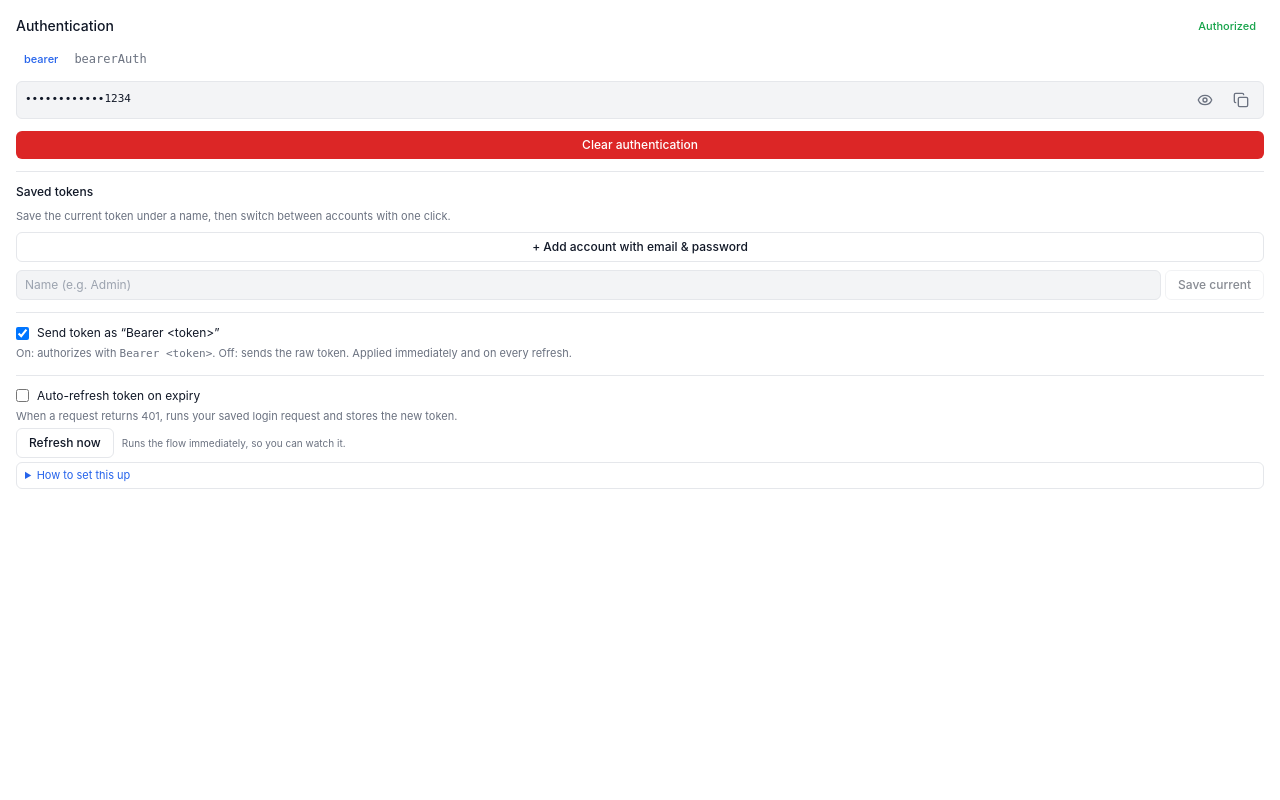
Test: AuthPanel › reveals a typed password on demand
The width and height of the screenshot is (1280, 800).
Click the button "+ Add account with email & password". click: (640, 247)
box: x1=16 y1=232 x2=1264 y2=262
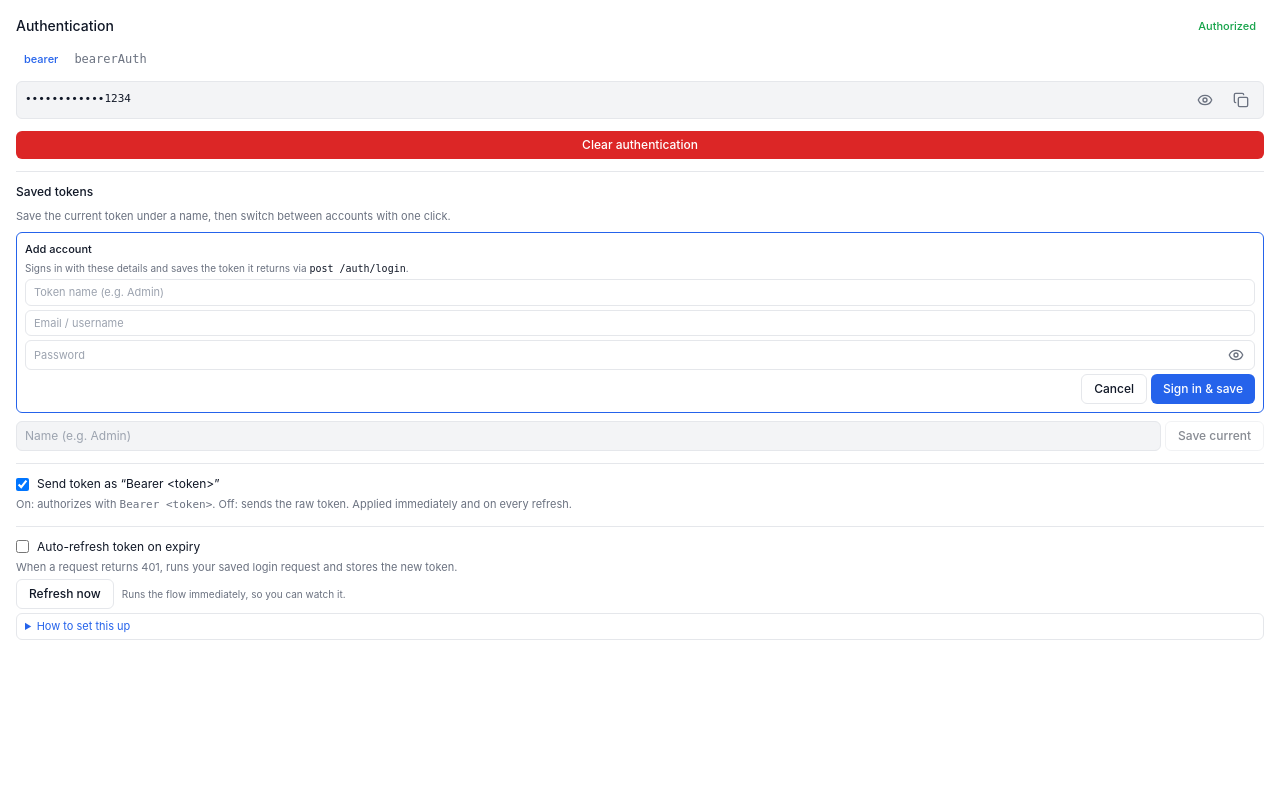
Type "Dwerp@2026" into the password field named "New account password". click: (622, 355)
box: x1=26 y1=343 x2=1218 y2=368
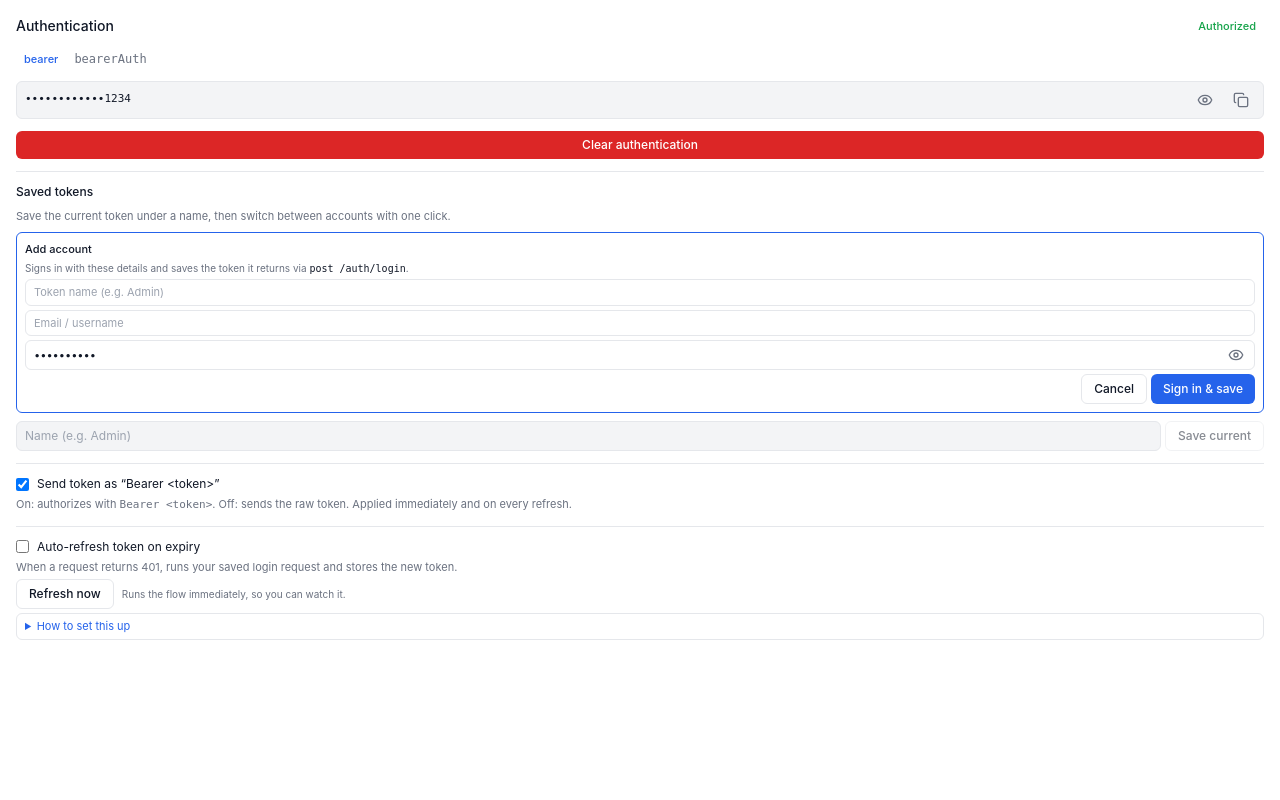
Click the button named "Show password". click: (1236, 355)
box: x1=1222 y1=341 x2=1250 y2=369
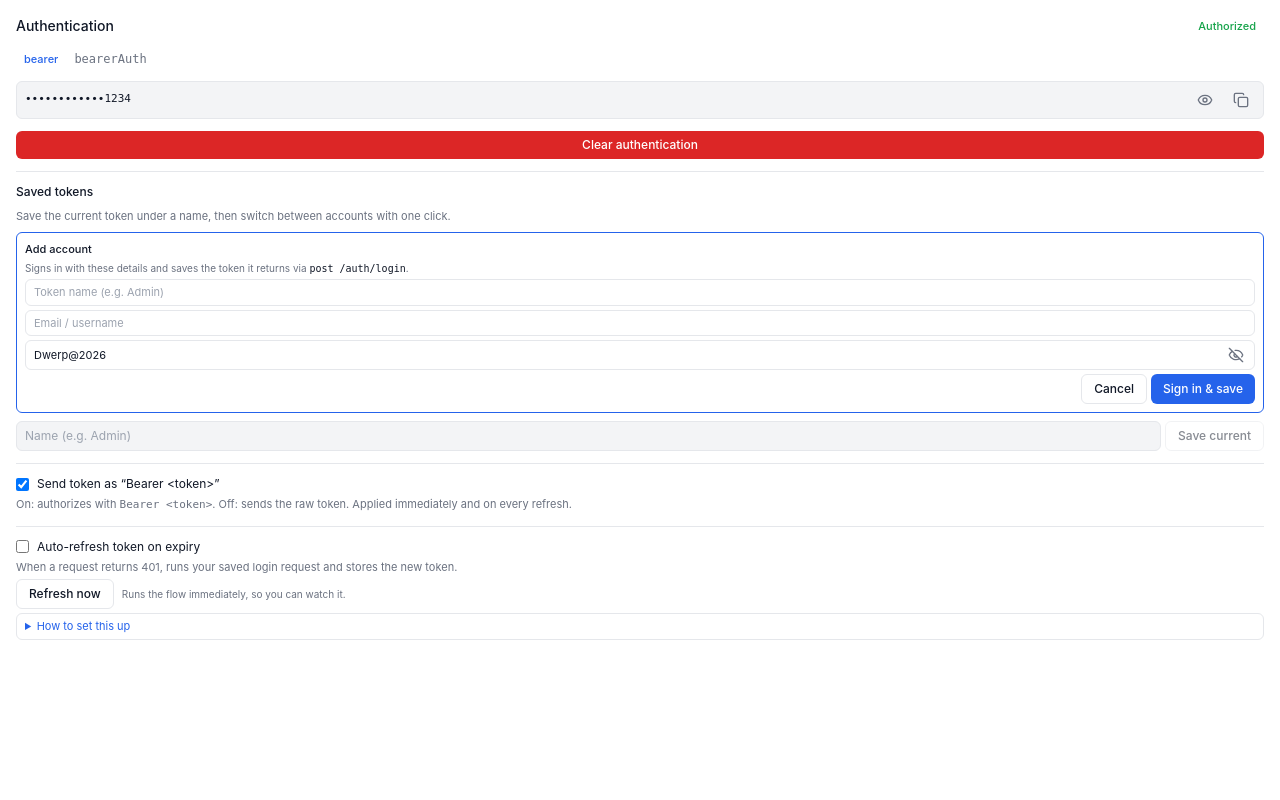
Check: the field named "New account password" shows its text, box x1=26 y1=343 x2=1218 y2=368
Click the button named "Hide password". click: (1236, 355)
box: x1=1222 y1=341 x2=1250 y2=369
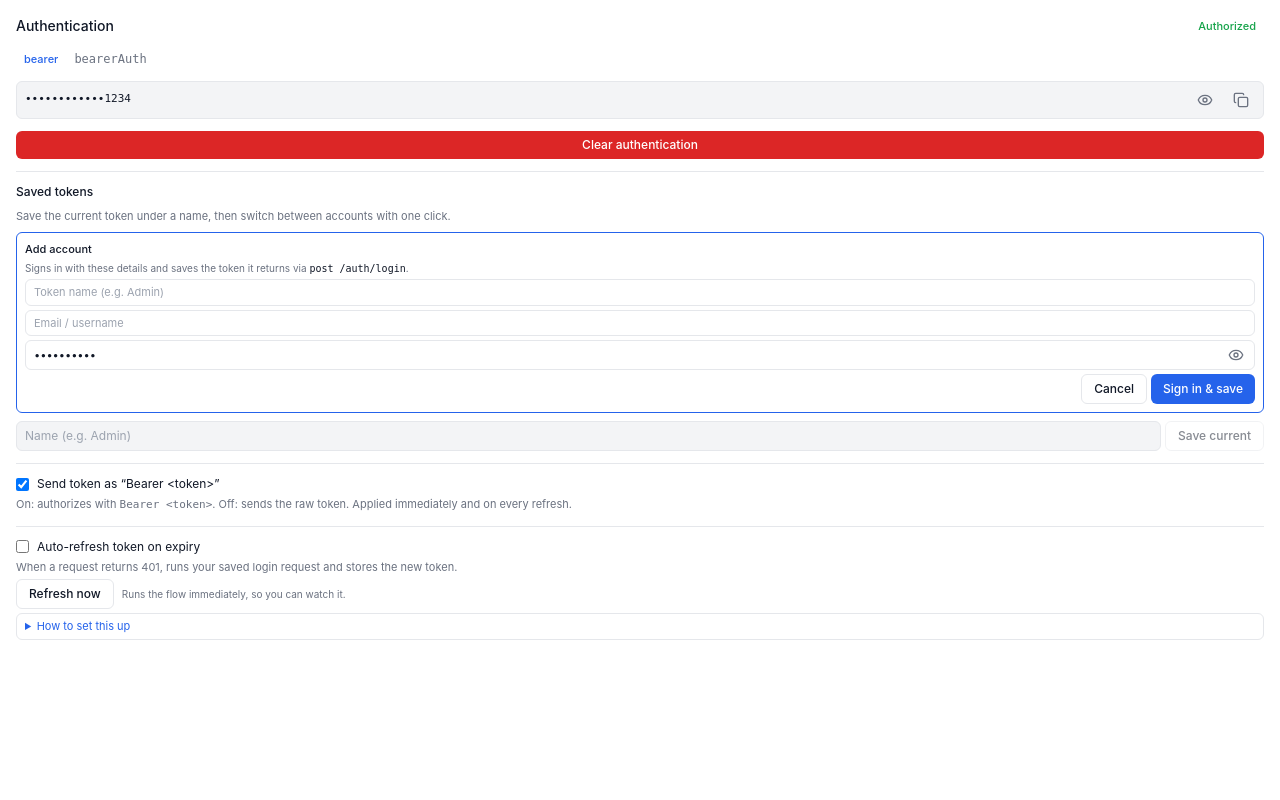
Check: the password field named "New account password" hides its text, box x1=26 y1=343 x2=1218 y2=368
